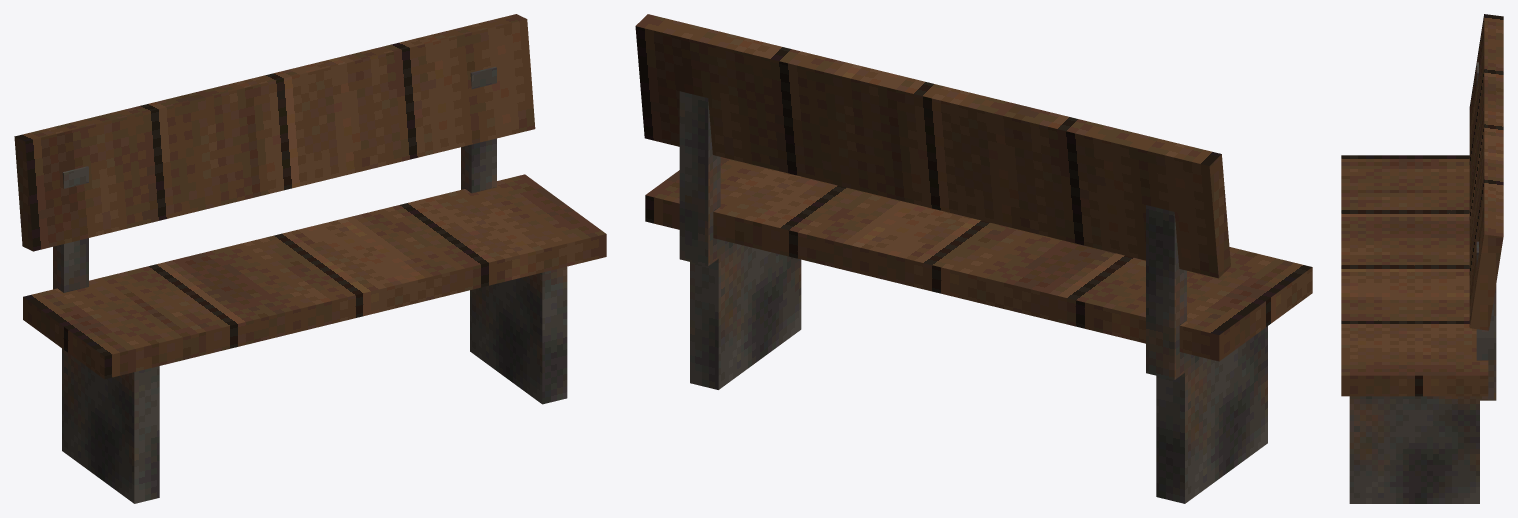
Rendered from banco.obj.
3 views of the same model, side by side, from view 1: azimuth 30°, elevation 25°; view 2: azimuth 150°, elevation 25°; view 3: azimuth 270°, elevation 25° (orthographic). The views are drawn at different scales.
Visible parts, largest first — view 1: banco; view 2: banco; view 3: banco.
Boxes of the visible parts, x1=… form: banco: x1=14, y1=14, x2=606, y2=503; banco: x1=635, y1=14, x2=1312, y2=503; banco: x1=1341, y1=14, x2=1503, y2=503.
Bounding box in the file's own units: 1.6 × 0.9626 × 0.497.
Materials: 2 (2 with a texture image).
